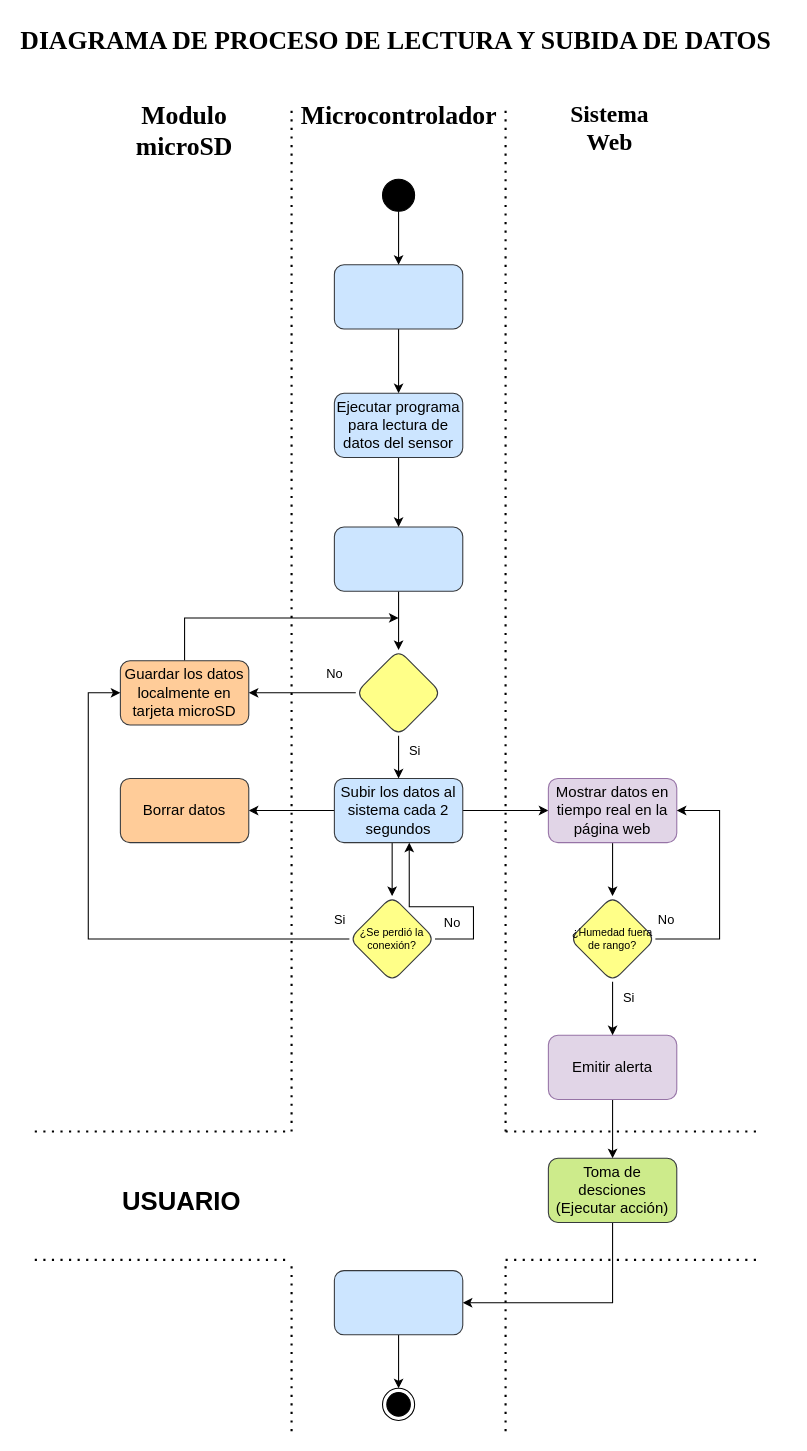
Some shapes in this 807 by 1451 pixel diagram are drawn without their labels. Each missing label, with the centre of its shape:
"Envio de datos del sensor al ESP32" belongs at point (398, 558).
"Envía acción al actuador" belongs at point (398, 1302).
"Instalación del sensor" belongs at point (398, 296).
"¿Hay conexión a internet?" belongs at point (398, 692).
